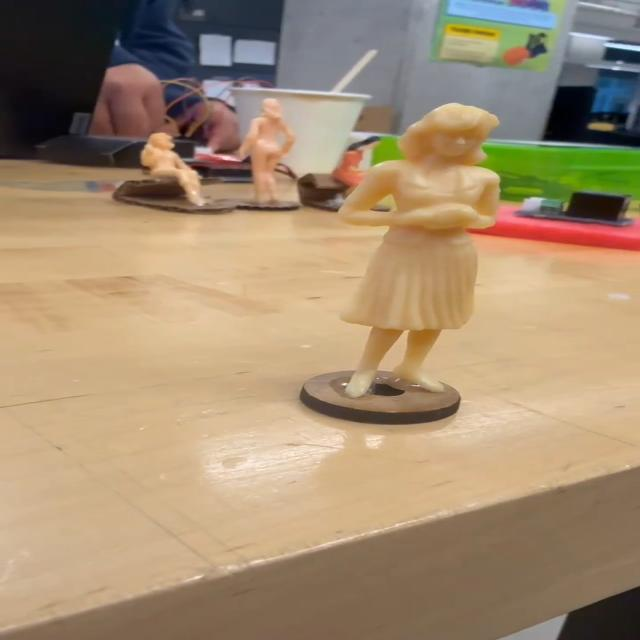Unauthorized: (329, 81, 510, 414)
